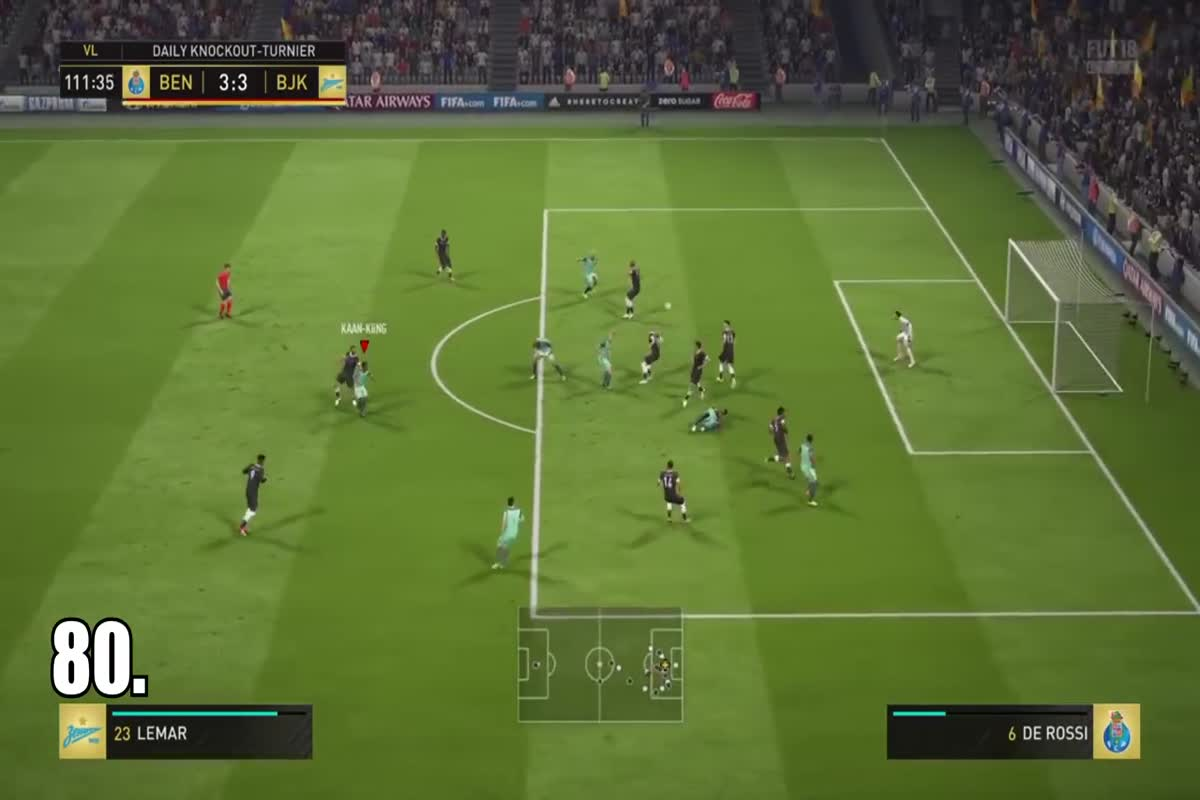ball: (656, 293, 688, 318)
